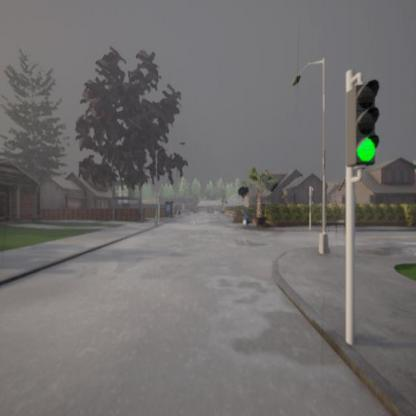traffic_light_green: (354, 78, 380, 165)
